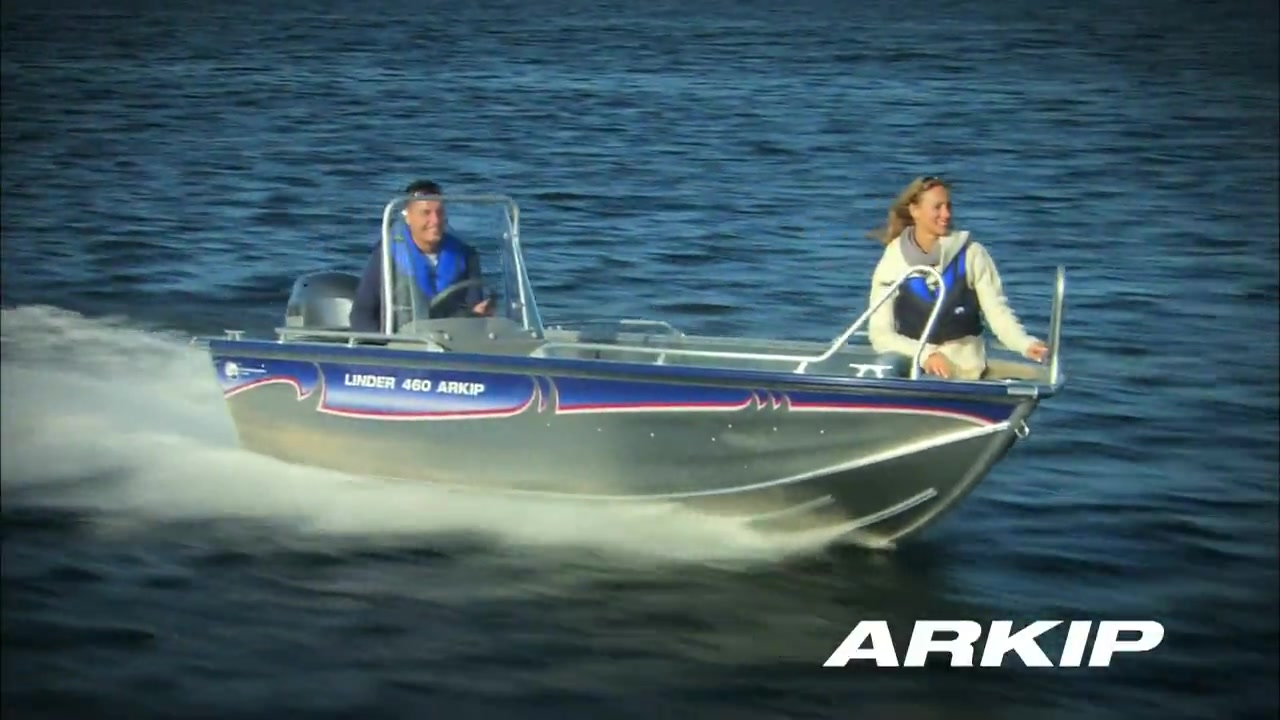boat: (205, 190, 1072, 572)
